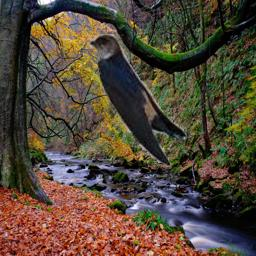Swallow: (89, 34, 219, 173)
